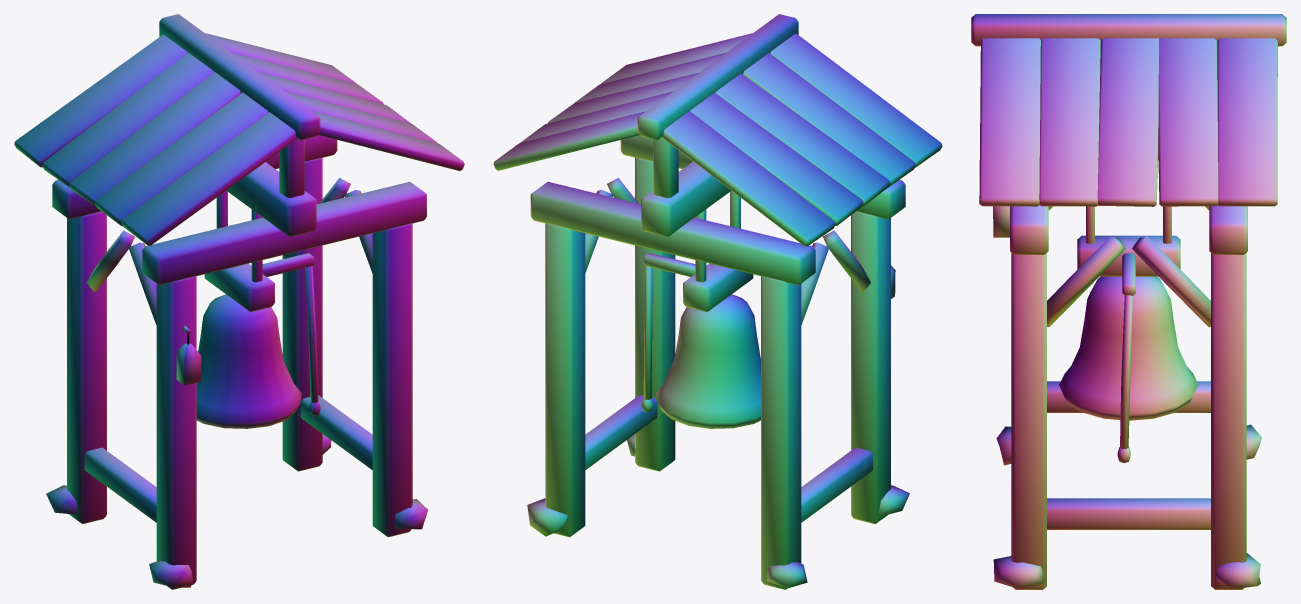
The model's file is SM_Prop_March_BellFrame.fbx.
The picture shows the model from 3 angles, left to right: view 1: azimuth 30°, elevation 25°; view 2: azimuth 150°, elevation 25°; view 3: azimuth 270°, elevation 25°; orthographic projection. The views are drawn at different scales.
Parts seen in each view (by area): view 1: SM_Prop_March_BellFrame; view 2: SM_Prop_March_BellFrame; view 3: SM_Prop_March_BellFrame.
Boxes of the visible parts, x1,y1,x2,y2 form: SM_Prop_March_BellFrame: (14,14,464,589); SM_Prop_March_BellFrame: (493,14,942,589); SM_Prop_March_BellFrame: (971,14,1286,589).
Bounding box in the file's own units: 2.54 × 3.48 × 1.96.
